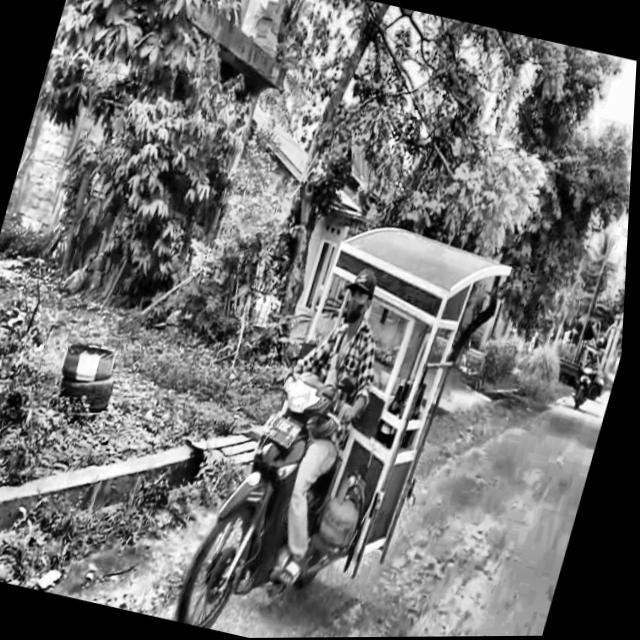motorcycle: (181, 354, 450, 639)
